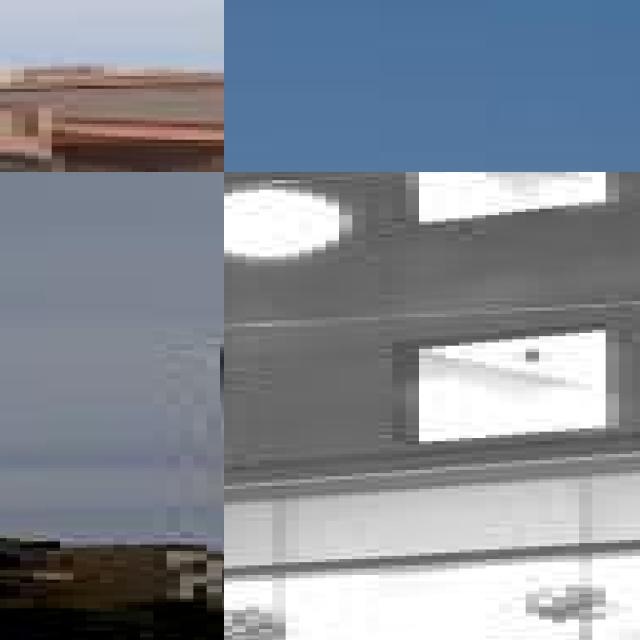street light: (0, 0, 224, 172)
